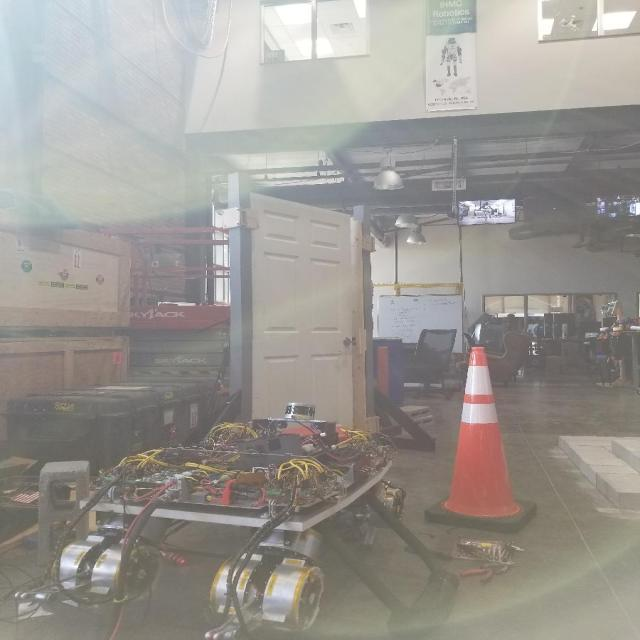door: (245, 190, 358, 460), (336, 334, 360, 350)
